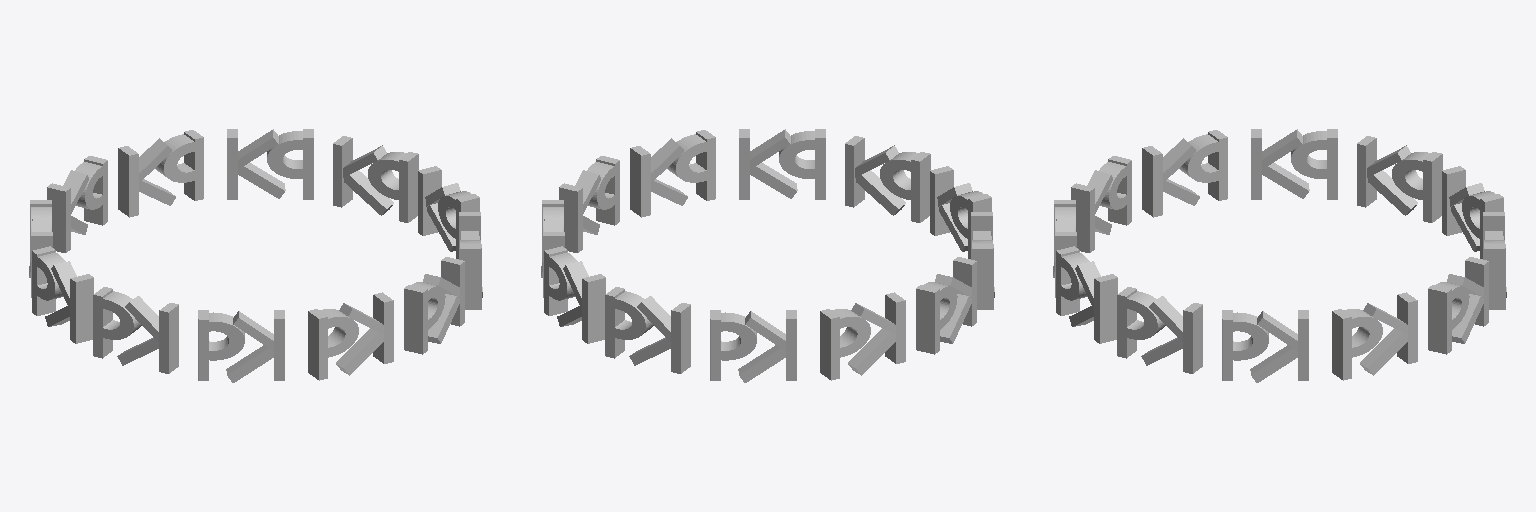
The model's file is necklaceYellow19.obj.
3 views of the same model, side by side, from view 1: azimuth 30°, elevation 25°; view 2: azimuth 150°, elevation 25°; view 3: azimuth 270°, elevation 25° (orthographic).
Size of the model in its own units: 13.46 by 2.13 by 13.46.